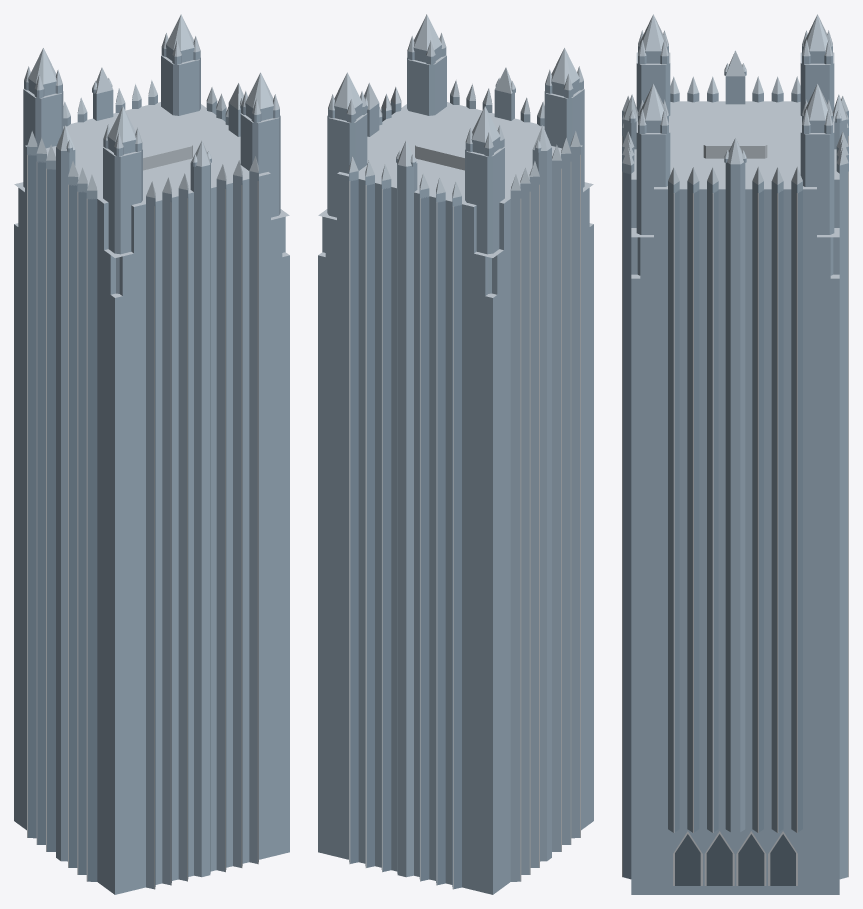
Rendered from pit-ppg-place.glb.
3 views of the same model, side by side, from view 1: azimuth 30°, elevation 25°; view 2: azimuth 150°, elevation 25°; view 3: azimuth 270°, elevation 25° (orthographic). The views are drawn at different scales.
Visible parts, largest first — view 1: One PPG Place; view 2: One PPG Place; view 3: One PPG Place.
Part boxes in pixels (box(x1,y1,x2,y2)): One PPG Place: box(14, 14, 289, 894); One PPG Place: box(318, 14, 593, 894); One PPG Place: box(622, 14, 848, 894).
Bounding box in the file's own units: 50.04 × 195 × 50.04.
